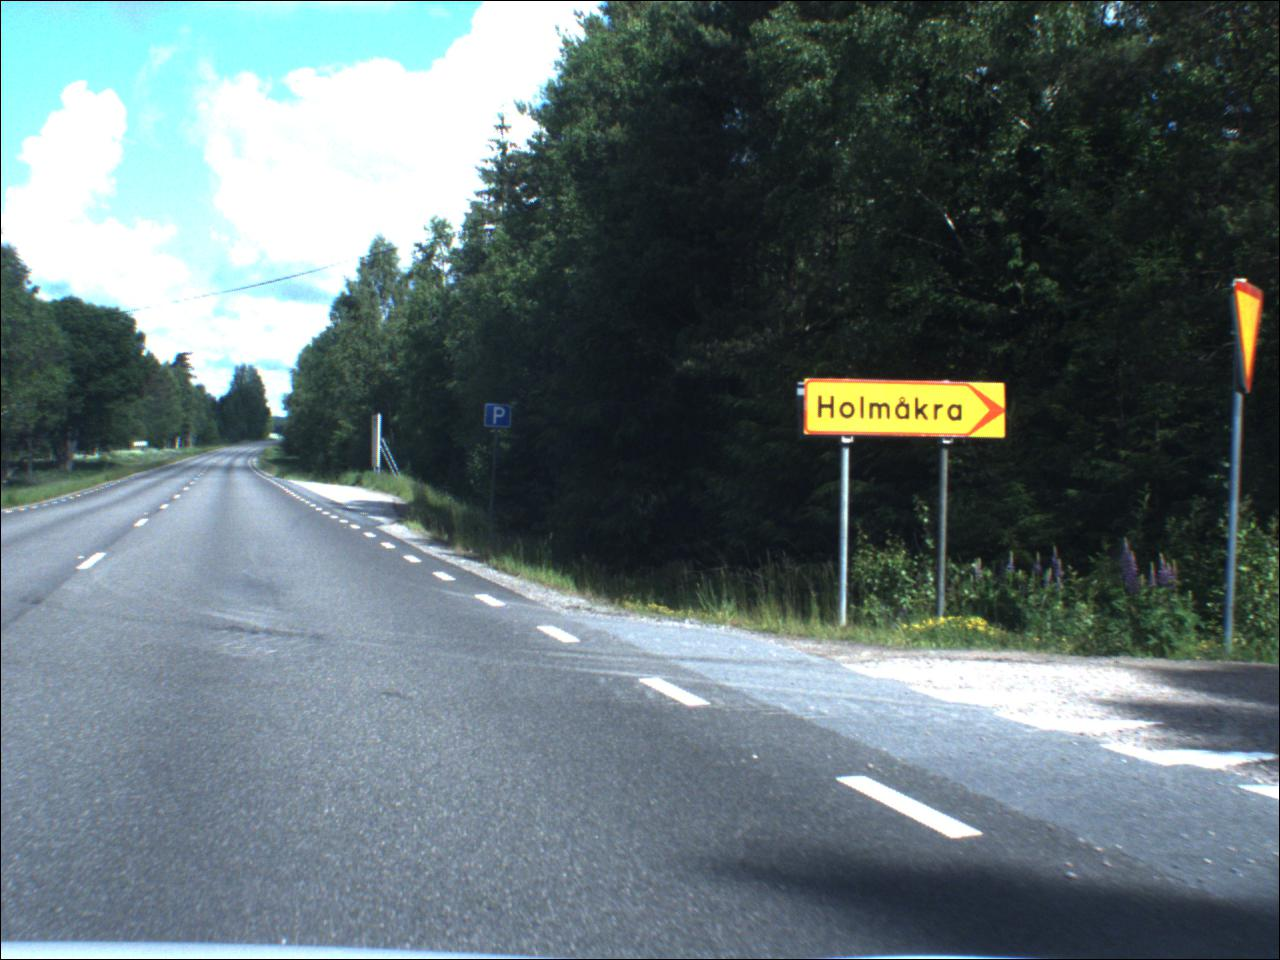GIVE_WAY: (1226, 273, 1268, 401)
